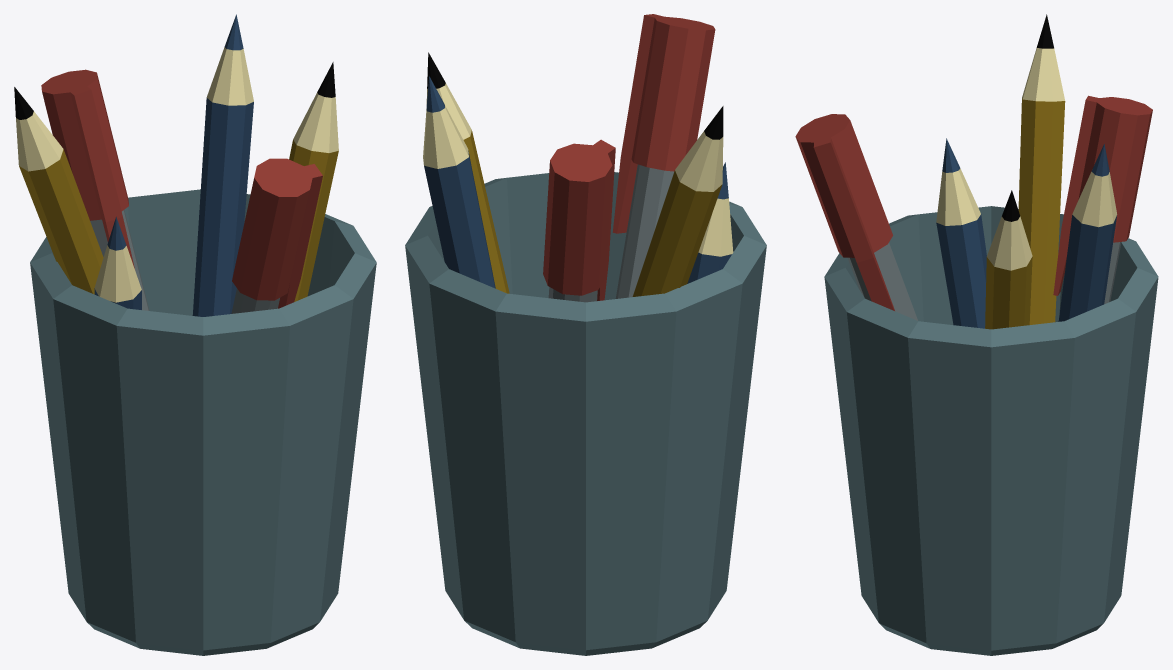
Rendered from pen_cup.fbx.
3 renders of one model, left to right at view 1: azimuth 30°, elevation 25°; view 2: azimuth 150°, elevation 25°; view 3: azimuth 270°, elevation 25°, orthographic. The views are drawn at different scales.
Visible parts, largest first — view 1: pen cup; view 2: pen cup; view 3: pen cup.
Boxes of the visible parts, x1,y1,x2,y2 form: pen cup: [14, 14, 376, 655]; pen cup: [405, 14, 766, 655]; pen cup: [795, 14, 1158, 655].
Size of the model in its own units: 21.44 by 35.25 by 22.52.
